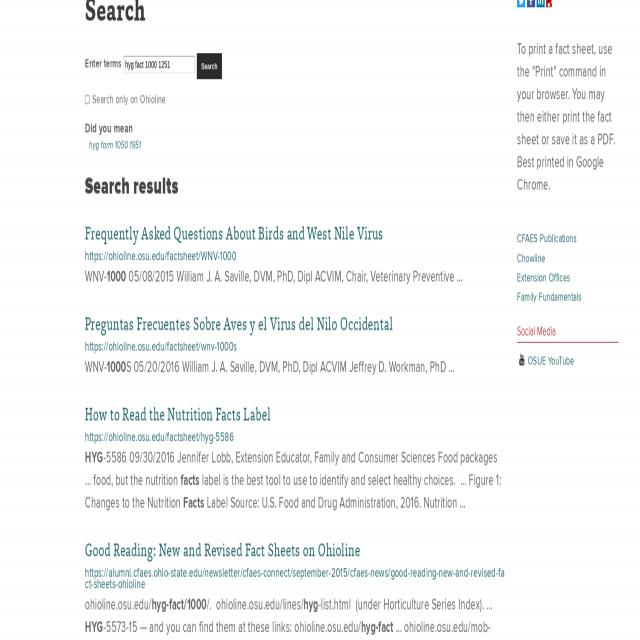button: (196, 54, 222, 78), (544, 0, 554, 8), (517, 0, 525, 7), (527, 0, 535, 7), (537, 0, 545, 7)
field: (124, 56, 194, 73), (85, 96, 91, 106)
